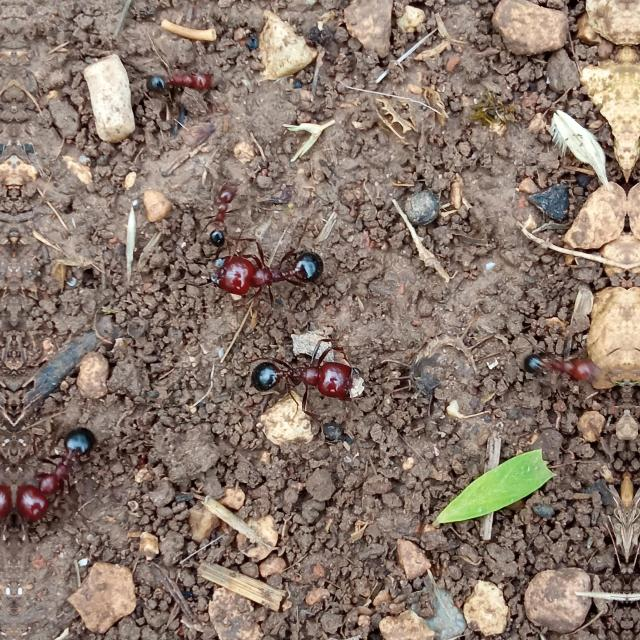Messor: (176, 218, 320, 302), (250, 318, 348, 434), (12, 424, 108, 540), (503, 330, 605, 408), (136, 49, 217, 121), (196, 170, 242, 264)
